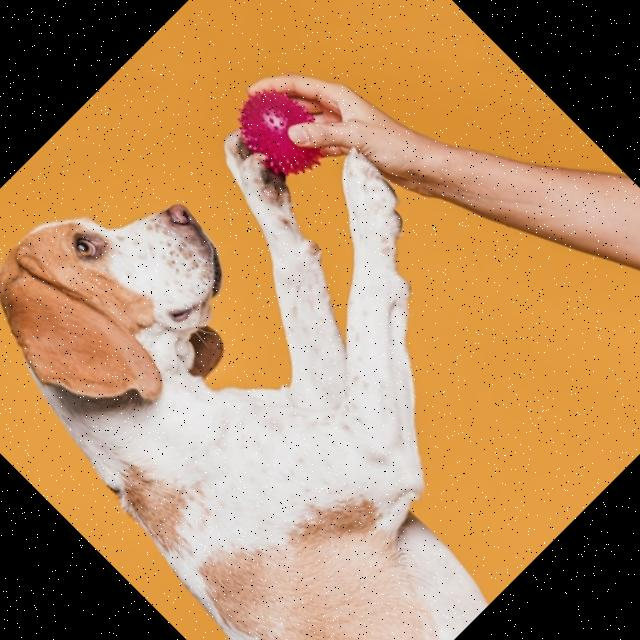Dog: (0, 25, 640, 640)
